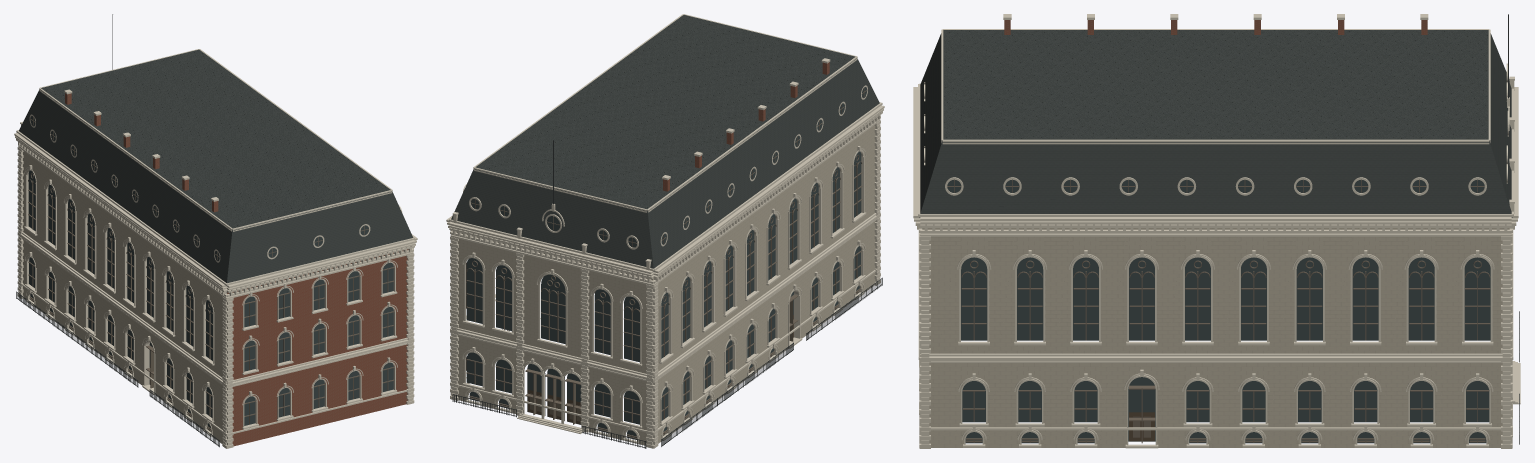
The model's file is chamber_of_commerce_1865__original_1865.glb.
3 renders of one model, left to right at view 1: azimuth 30°, elevation 25°; view 2: azimuth 150°, elevation 25°; view 3: azimuth 270°, elevation 25°, orthographic. The views are drawn at different scales.
Parts seen in each view (by area): view 1: chamber_of_commerce_1865; view 2: chamber_of_commerce_1865; view 3: chamber_of_commerce_1865.
Boxes of the visible parts, x1,y1,x2,y2 form: chamber_of_commerce_1865: (14, 14, 417, 448); chamber_of_commerce_1865: (446, 14, 884, 448); chamber_of_commerce_1865: (913, 14, 1520, 448).
Bounding box in the file's own units: 30.14 × 38.3 × 57.08.
Materials: 9 (3 with a texture image).
